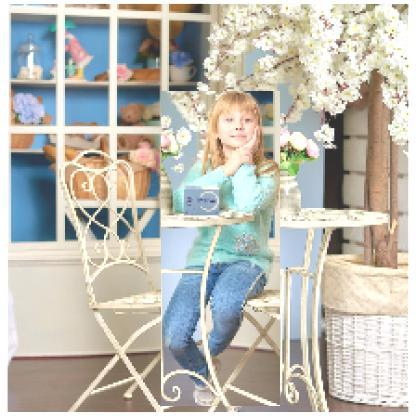child: (162, 92, 282, 408)
